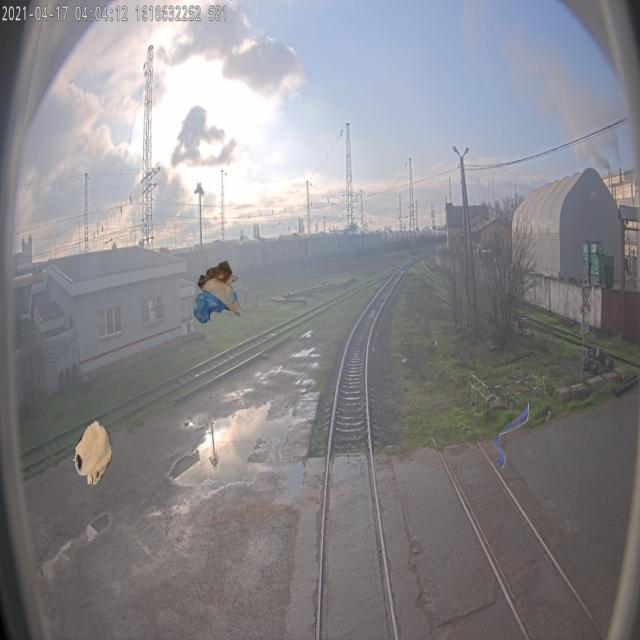floating object: (494, 403, 529, 468)
plastic bag: (194, 260, 243, 324), (73, 420, 112, 484)
